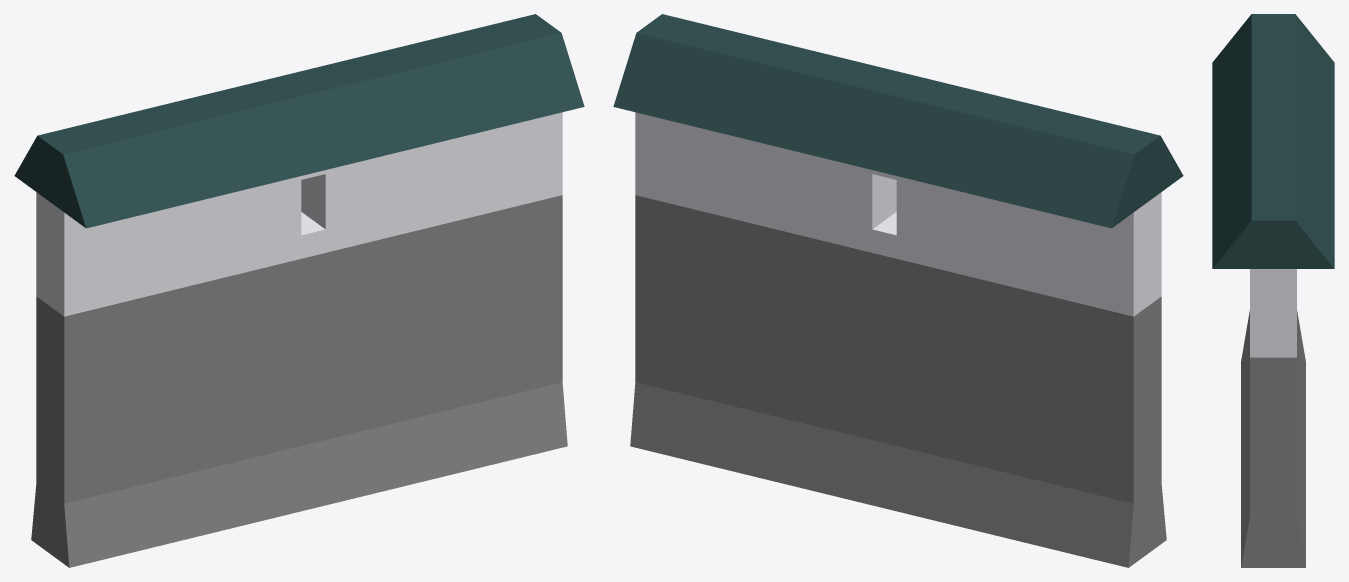
The model's file is Asian_Prop_Building_Fence_Wall_High_Embrasure_02.FBX.
3 views of the same model, side by side, from view 1: azimuth 30°, elevation 25°; view 2: azimuth 150°, elevation 25°; view 3: azimuth 270°, elevation 25° (orthographic). The views are drawn at different scales.
Parts seen in each view (by area): view 1: Asian_Prop_Building_Fence_Wall_High_Embrasure_02; view 2: Asian_Prop_Building_Fence_Wall_High_Embrasure_02; view 3: Asian_Prop_Building_Fence_Wall_High_Embrasure_02.
Part boxes in pixels (box(x1,y1,x2,y2)): Asian_Prop_Building_Fence_Wall_High_Embrasure_02: box(14, 14, 584, 567); Asian_Prop_Building_Fence_Wall_High_Embrasure_02: box(613, 14, 1183, 567); Asian_Prop_Building_Fence_Wall_High_Embrasure_02: box(1212, 14, 1334, 567).
Size of the model in its own units: 5167 by 4051 by 1290.
